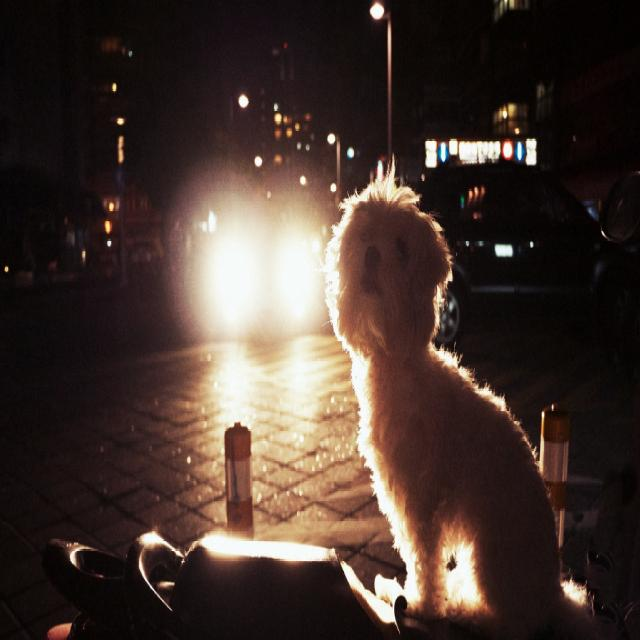Dog: (319, 188, 585, 626)
